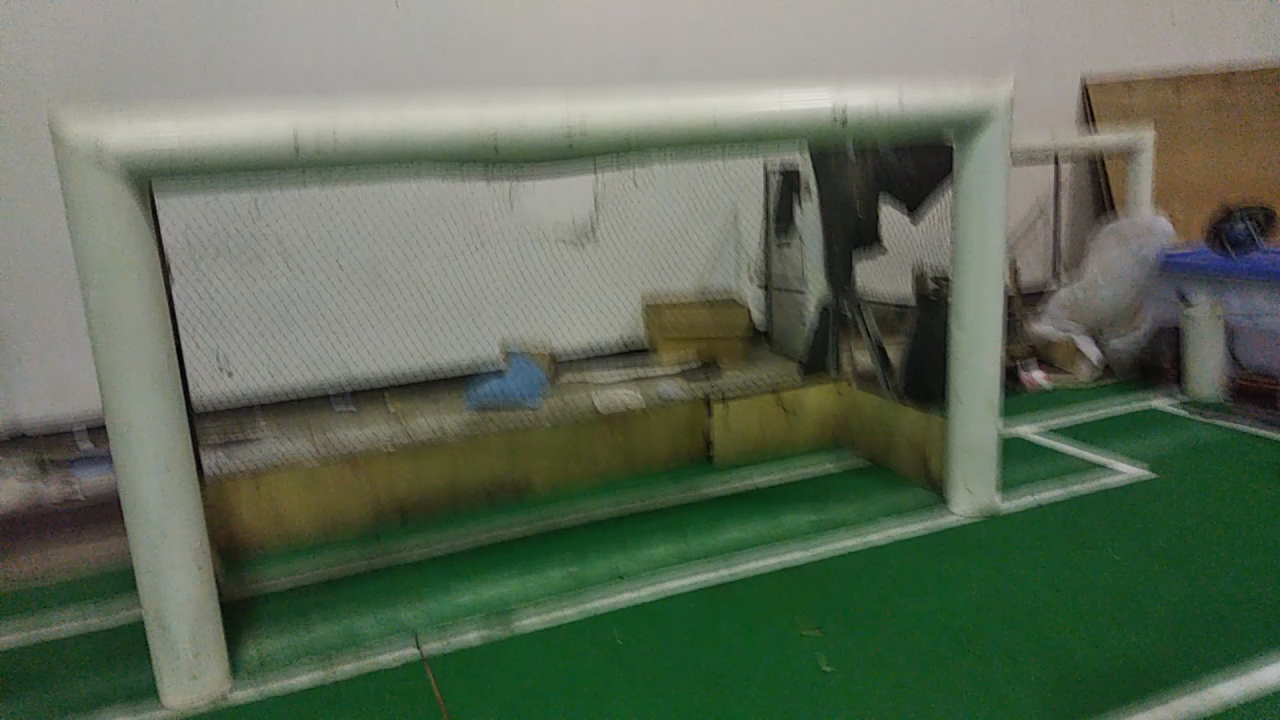gawang: (34, 58, 1028, 715)
